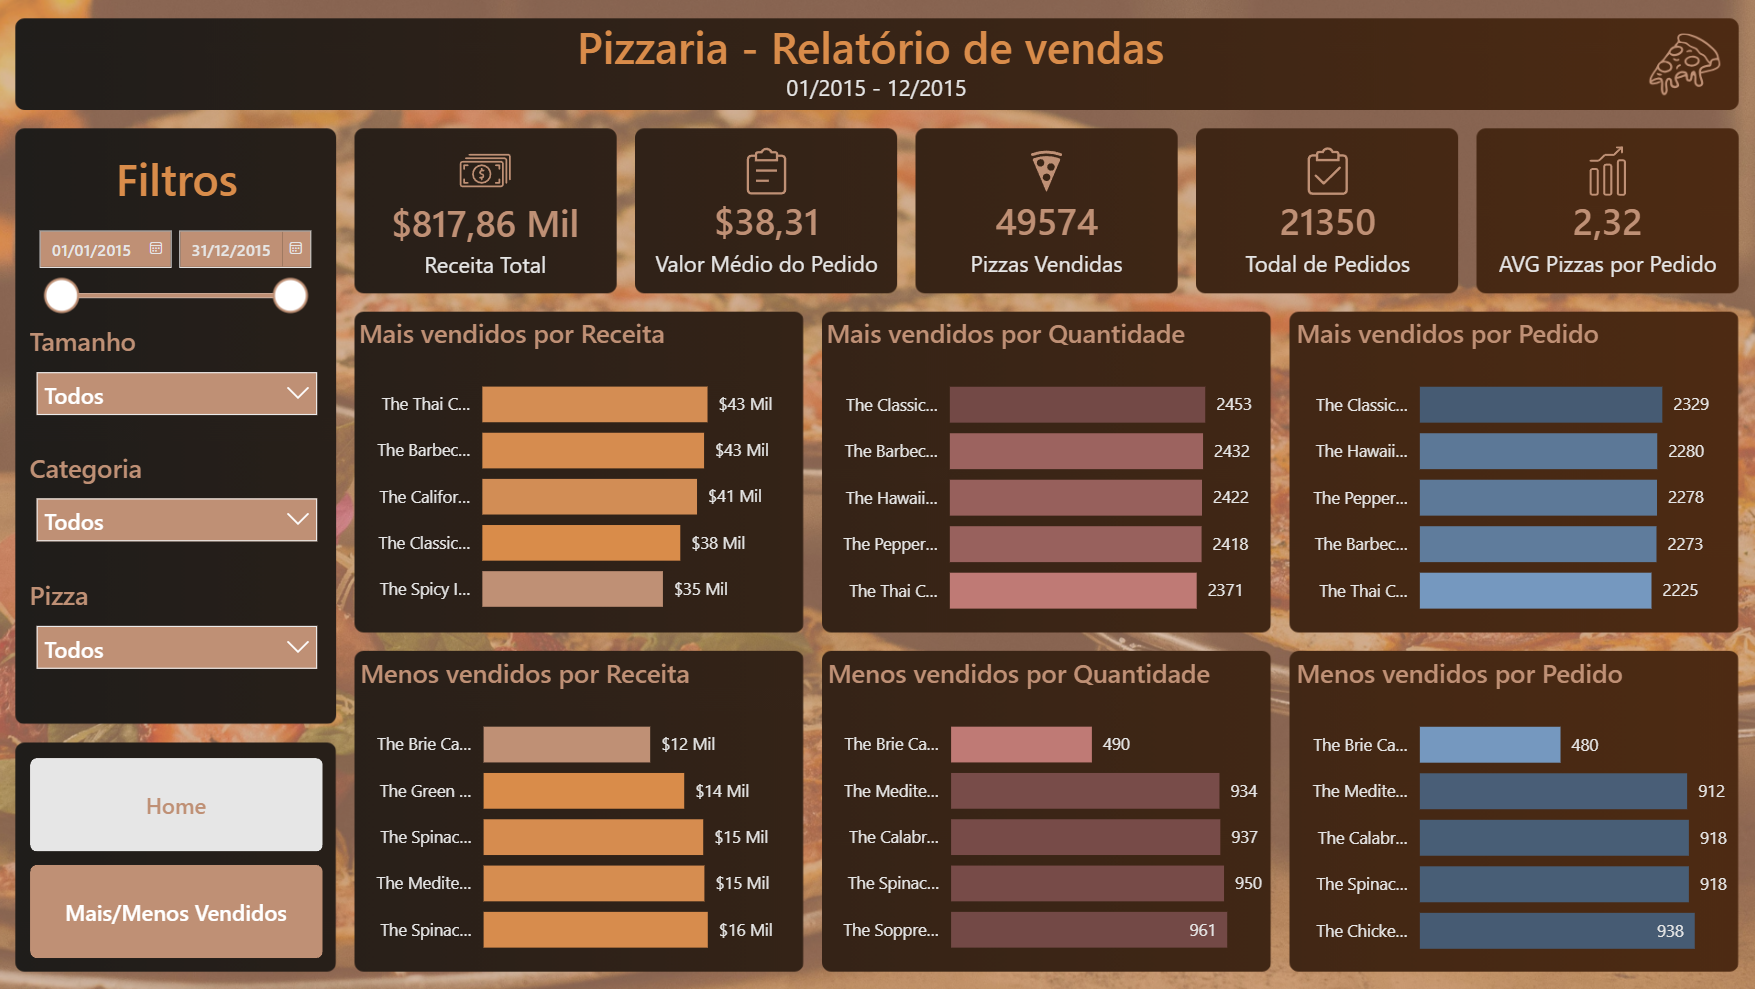

The dashboard page shown, as its layout file describes it:
{"tool":"powerbi","page":{"name":"Mais/Menos Vendidos","canvas":[1280,720],"ordinal":1},"visuals":[{"type":"cardVisual","fields":{"Data":["pizza_sales pizza_sales.Total Revenue"]},"box":[259.1,93.5,192.1,120.5],"z":0},{"type":"cardVisual","fields":{"Data":["pizza_sales pizza_sales.Average Order Value"]},"box":[463.7,93.5,192.1,120.5],"z":1000},{"type":"cardVisual","fields":{"Data":["pizza_sales pizza_sales.Total Pizza Sold"]},"box":[667.2,93.5,192.1,120.5],"z":2000},{"type":"cardVisual","fields":{"Data":["pizza_sales pizza_sales.Total Orders"]},"box":[871.8,93.5,192.1,120.5],"z":3000},{"type":"cardVisual","fields":{"Data":["pizza_sales pizza_sales.Average Pizzas Per Order"]},"box":[1075.3,93.5,192.1,120.5],"z":4000},{"type":"textbox","box":[421.6,11.7,488.8,45.5],"z":5000},{"type":"card","fields":{"Values":["Calendar.Range Date"]},"box":[537.6,49.2,204.6,34.1],"z":6000},{"type":"slicer","title":"Categoria","fields":{"Values":["pizza_sales pizza_sales.pizza_category"]},"box":[13.5,327.6,234.2,92.1],"z":7000},{"type":"slicer","title":"Tamanho","fields":{"Values":["pizza_sales pizza_sales.pizza_size"]},"box":[13.5,235.5,234.2,92.1],"z":8000},{"type":"slicer","title":"Data","fields":{"Values":["Calendar.date"]},"box":[18.1,157.1,216,78.4],"z":9000},{"type":"slicer","title":"Pizza","fields":{"Values":["pizza_sales pizza_sales.pizza_name"]},"box":[13.5,419.7,234.2,92.1],"z":10000},{"type":"textbox","box":[13.5,108.2,234.2,48.9],"z":11000},{"type":"pageNavigator","box":[13.6,540.9,233.6,167.3],"z":12000},{"type":"barChart","title":"Mais vendidos por Receita","fields":{"Category":["pizza_sales pizza_sales.pizza_name"],"Y":["pizza_sales pizza_sales.Total Revenue"]},"box":[258.5,224.3,328.6,235.7],"z":13000},{"type":"barChart","title":"Mais vendidos por Quantidade","fields":{"Category":["pizza_sales pizza_sales.pizza_name"],"Y":["pizza_sales pizza_sales.Total Pizza Sold"]},"box":[598.5,224.3,327.1,237.1],"z":14000},{"type":"barChart","title":"Menos vendidos por Receita","fields":{"Category":["pizza_sales pizza_sales.pizza_name"],"Y":["pizza_sales pizza_sales.Total Revenue"]},"box":[259,471.5,327.3,236.4],"z":15000},{"type":"barChart","title":"Menos vendidos por Quantidade","fields":{"Category":["pizza_sales pizza_sales.pizza_name"],"Y":["pizza_sales pizza_sales.Total Pizza Sold"]},"box":[599,471.5,328.2,236.4],"z":16000},{"type":"barChart","title":"Mais vendidos por Pedido","fields":{"Category":["pizza_sales pizza_sales.pizza_name"],"Y":["pizza_sales pizza_sales.Total Orders"]},"box":[939.9,224.3,327.1,237.1],"z":17000},{"type":"barChart","title":"Menos vendidos por Pedido","fields":{"Category":["pizza_sales pizza_sales.pizza_name"],"Y":["pizza_sales pizza_sales.Total Orders"]},"box":[939.9,471.5,327.3,237.3],"z":18000}]}

Visuals, with their boxes in screenshot pixels (x1, y1, x2, y2), scaled from the page's 1280x720 canvas onto the 1755x989 screenshot:
cardVisual - pizza_sales pizza_sales.Total Revenue: (355,128,619,294)
cardVisual - pizza_sales pizza_sales.Average Order Value: (636,128,899,294)
cardVisual - pizza_sales pizza_sales.Total Pizza Sold: (915,128,1178,294)
cardVisual - pizza_sales pizza_sales.Total Orders: (1195,128,1459,294)
cardVisual - pizza_sales pizza_sales.Average Pizzas Per Order: (1474,128,1738,294)
textbox: (578,16,1248,79)
card - Calendar.Range Date: (737,68,1018,114)
"Categoria" slicer: (19,450,340,577)
"Tamanho" slicer: (19,323,340,450)
"Data" slicer: (25,216,321,323)
"Pizza" slicer: (19,577,340,703)
textbox: (19,149,340,216)
pageNavigator: (19,743,339,973)
"Mais vendidos por Receita" barChart: (354,308,805,632)
"Mais vendidos por Quantidade" barChart: (821,308,1269,634)
"Menos vendidos por Receita" barChart: (355,648,804,972)
"Menos vendidos por Quantidade" barChart: (821,648,1271,972)
"Mais vendidos por Pedido" barChart: (1289,308,1737,634)
"Menos vendidos por Pedido" barChart: (1289,648,1737,974)
